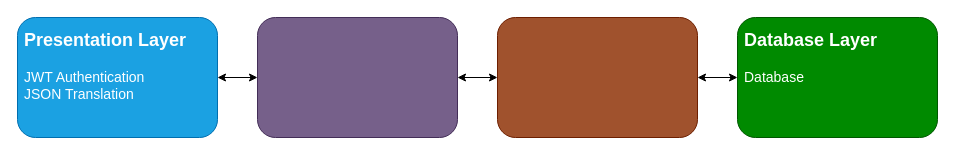
The diagram is 955 pixels wide and 155 high, and some of its shapes have lost their labels. Here are the shapes that lost their labels. From the top down, the centre of each, then its label:
pixel 357 77: Business Logic Layer Authorization Validation Business logic
pixel 597 77: Persistence Layer Storage Logic
